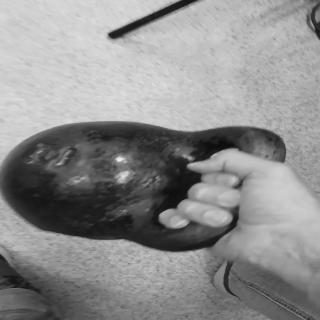girya: (5, 121, 289, 251)
